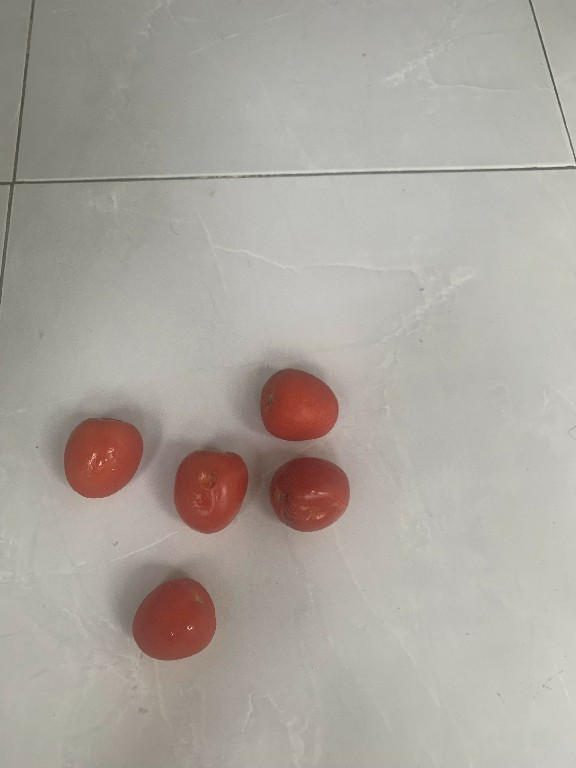NG: (172, 444, 246, 540), (271, 453, 351, 538)
OK: (131, 572, 233, 664), (56, 411, 146, 503), (254, 360, 340, 449)
